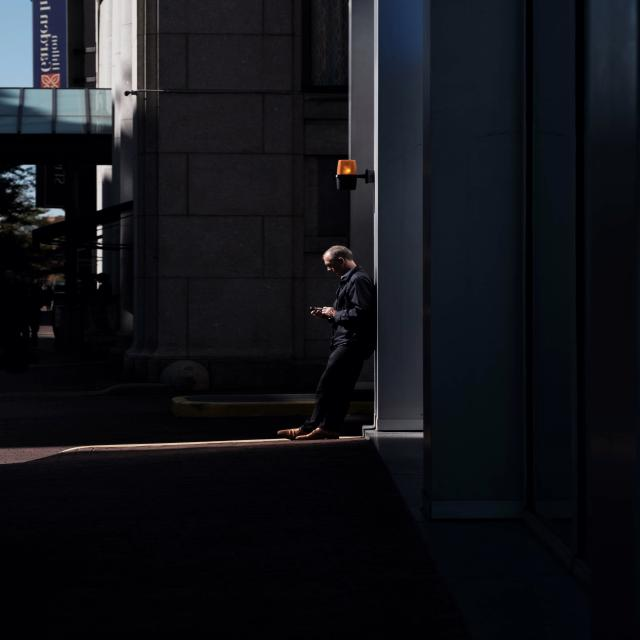adult: (278, 243, 377, 446)
